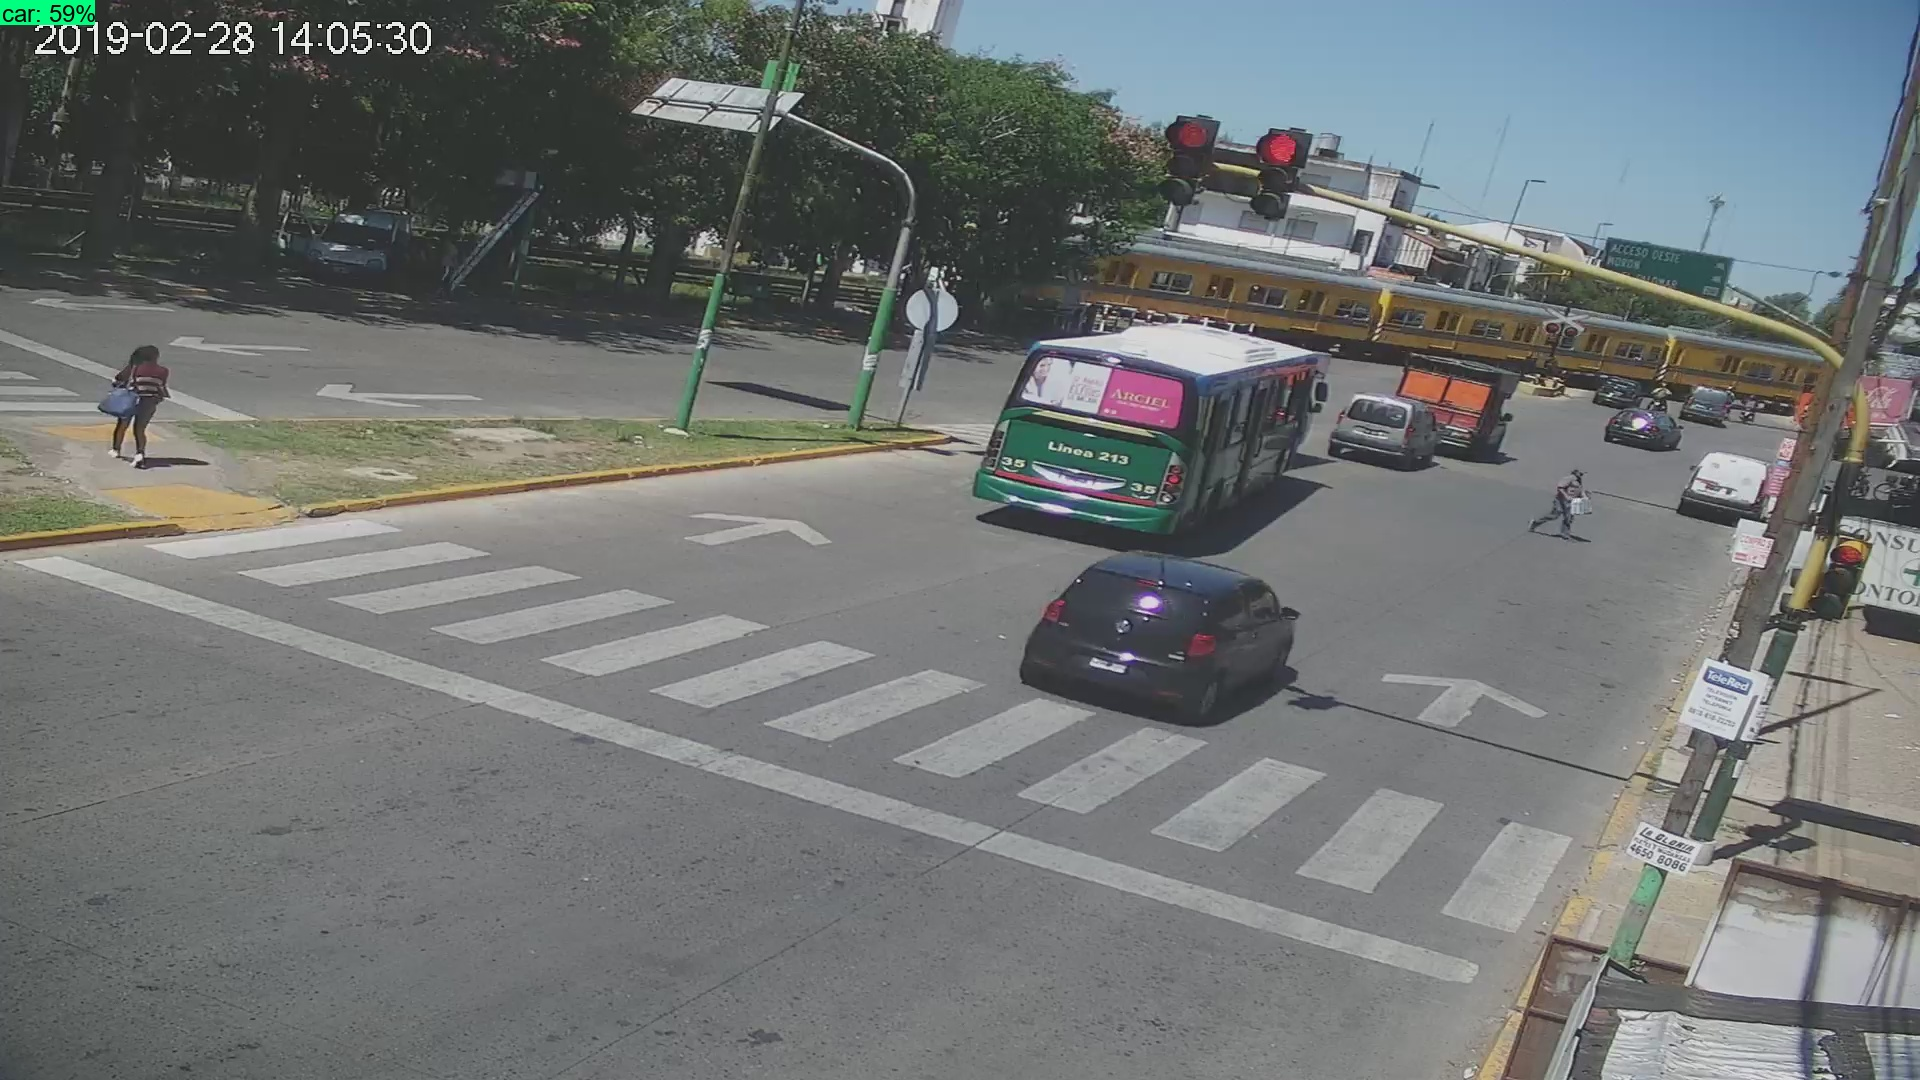bus: (949, 323, 1331, 541)
car: (1007, 545, 1315, 725), (1317, 375, 1433, 464), (1683, 439, 1770, 524)
